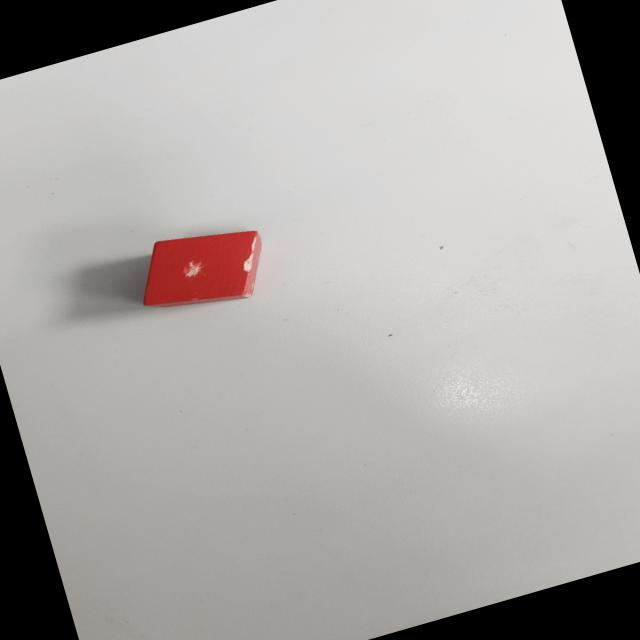broken: (129, 212, 276, 324)
